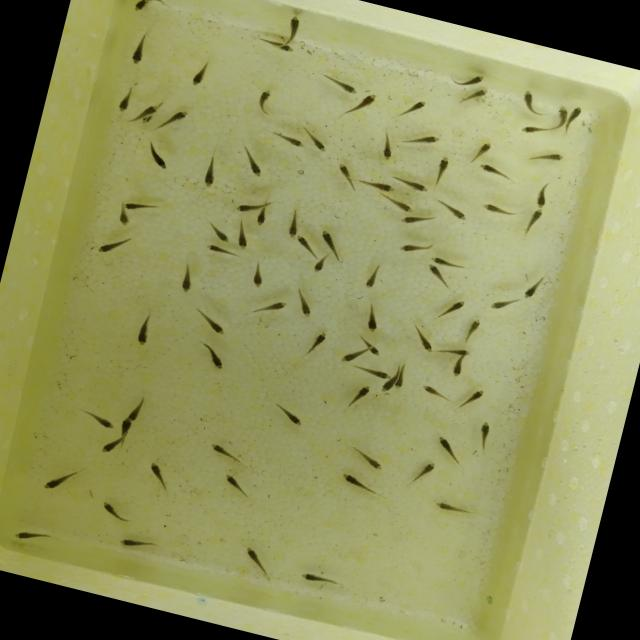fingerling: (236, 545, 276, 581), (396, 126, 443, 154), (139, 140, 175, 175), (235, 142, 269, 178), (40, 467, 78, 498), (156, 102, 190, 136), (128, 30, 156, 70), (349, 86, 383, 118), (196, 340, 230, 372), (256, 292, 290, 322), (350, 448, 388, 474), (192, 309, 228, 336), (334, 470, 376, 493), (142, 458, 173, 489), (424, 262, 456, 292), (428, 433, 462, 461), (217, 472, 253, 498), (93, 235, 127, 262), (231, 194, 266, 220), (190, 55, 216, 90), (8, 522, 43, 548), (197, 154, 222, 190), (344, 381, 373, 412), (519, 274, 547, 306), (274, 404, 308, 430), (362, 260, 388, 294), (136, 306, 158, 346), (114, 534, 158, 554), (291, 288, 318, 320), (314, 228, 342, 258), (98, 500, 130, 526), (430, 149, 453, 185), (484, 291, 517, 316), (412, 457, 438, 488), (430, 252, 470, 272), (116, 196, 154, 217), (429, 499, 473, 517), (94, 433, 122, 461), (459, 384, 487, 412), (400, 92, 430, 118), (305, 331, 330, 362), (301, 572, 344, 590), (176, 261, 198, 296), (280, 7, 302, 42), (340, 345, 372, 369), (261, 36, 299, 56), (534, 147, 570, 168), (440, 296, 468, 322), (360, 176, 396, 196), (474, 418, 495, 452), (114, 86, 136, 118), (353, 364, 394, 381), (516, 120, 550, 140), (418, 382, 452, 402), (412, 328, 438, 354), (523, 207, 546, 236), (399, 240, 436, 258), (332, 158, 358, 183), (474, 162, 510, 180), (250, 204, 274, 230), (464, 83, 495, 103), (304, 133, 332, 155), (290, 232, 318, 254), (362, 307, 384, 335), (204, 441, 238, 459), (274, 132, 308, 150), (442, 204, 472, 224), (124, 395, 145, 423), (440, 343, 474, 360), (479, 202, 515, 218), (448, 356, 470, 382), (460, 70, 490, 89), (354, 336, 382, 356), (530, 184, 550, 212), (472, 138, 492, 166), (84, 412, 115, 430), (331, 78, 362, 96), (396, 175, 428, 192), (395, 212, 427, 229), (386, 197, 416, 215), (513, 86, 535, 110), (248, 259, 266, 288), (379, 138, 399, 164), (232, 226, 252, 252), (464, 314, 483, 341), (113, 206, 135, 229), (286, 212, 304, 240), (566, 100, 584, 128), (308, 253, 329, 276), (209, 225, 233, 245), (392, 362, 408, 391), (201, 240, 228, 257), (254, 86, 271, 112), (553, 106, 569, 133), (380, 374, 396, 398), (118, 416, 133, 438), (142, 100, 159, 118), (133, 0, 149, 13)
